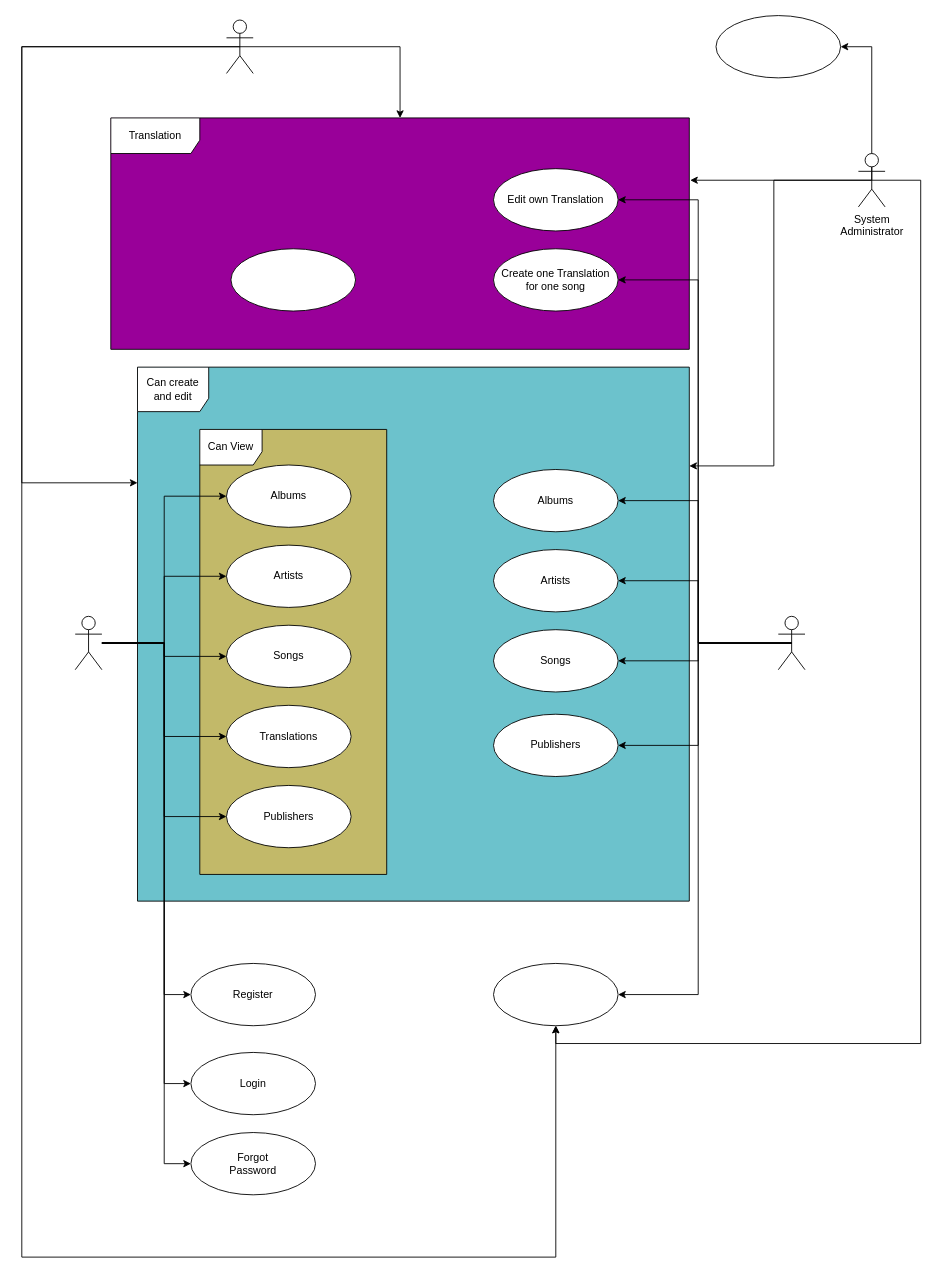
The diagram is 943 pixels wide and 1280 high, and some of its shapes have lost their labels. The centre of each missing label's shape, as x and y in pixels:
"Admin" belongs at point (239, 46).
"Can edit other user's Translations" belongs at point (293, 279).
"Logout" belongs at point (555, 994).
"Manage Users" belongs at point (778, 46).
"User" belongs at point (791, 642).
"Visitor" belongs at point (88, 642).
